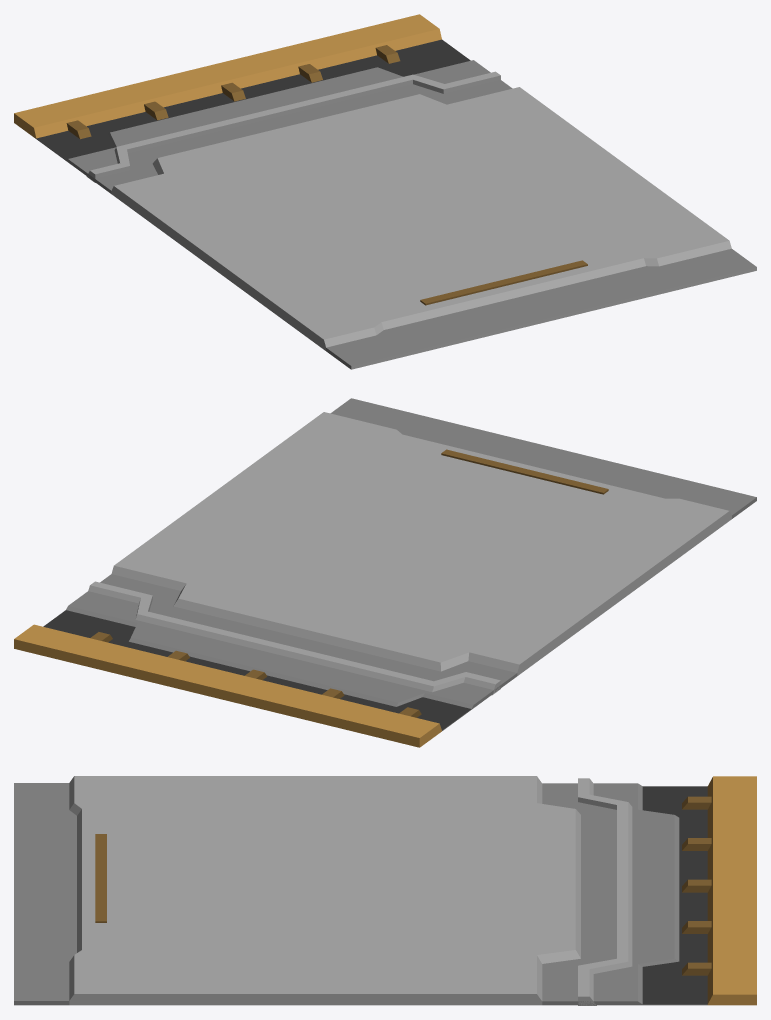
Rendered from Cieling_Short.fbx.
3 renders of one model, top to bottom at view 1: azimuth 30°, elevation 25°; view 2: azimuth 150°, elevation 25°; view 3: azimuth 270°, elevation 25°, orthographic. The views are drawn at different scales.
Parts seen in each view (by area): view 1: Cieling_Side.001; view 2: Cieling_Side.001; view 3: Cieling_Side.001.
Part boxes in pixels (<box>): Cieling_Side.001: <box>14,14,756,369</box>; Cieling_Side.001: <box>14,398,756,747</box>; Cieling_Side.001: <box>14,776,756,1005</box>.
Size of the model in its own units: 174 by 6.85 by 251.
